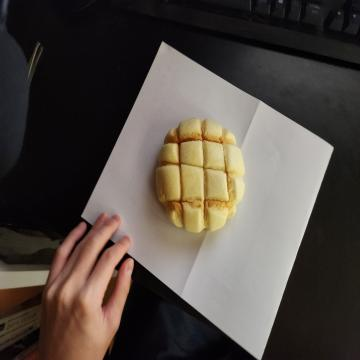melon_bread: (155, 117, 247, 232)
